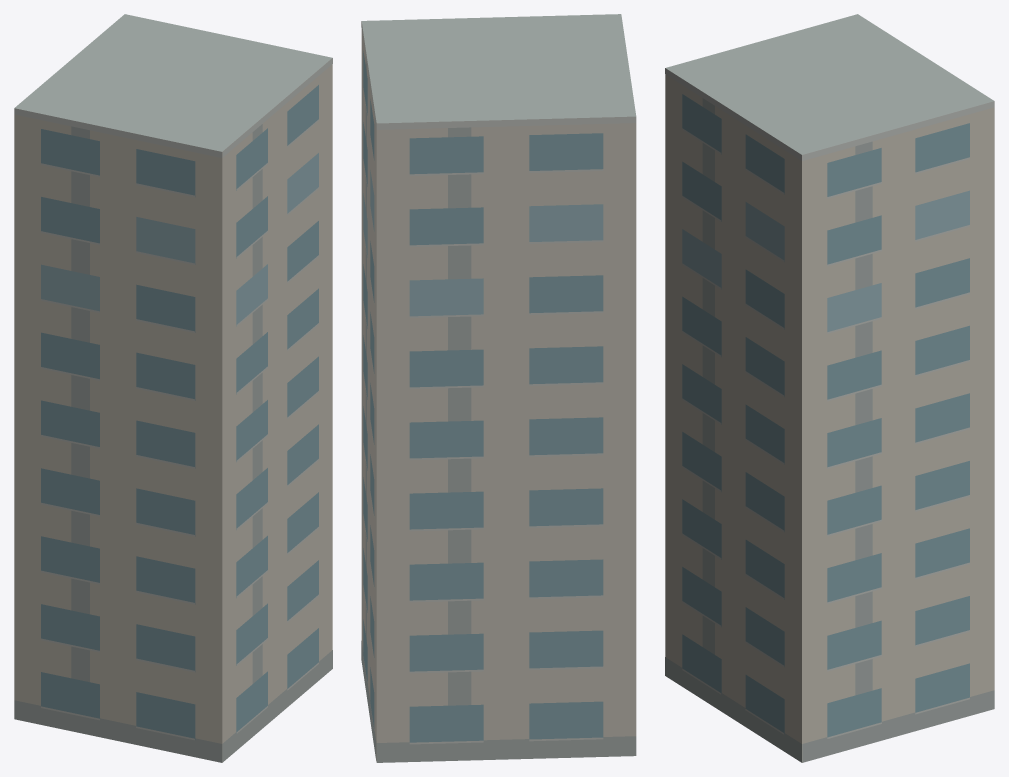
The model's file is residential-6cf351f7-9d84-4971-b9f0-f32f5a612195.glb.
3 renders of one model, left to right at view 1: azimuth 30°, elevation 25°; view 2: azimuth 150°, elevation 25°; view 3: azimuth 270°, elevation 25°, orthographic. The views are drawn at different scales.
Parts seen in each view (by area): view 1: residential-6cf351f7-9d84-4971-b9f0-f32f5a612195.tmp; view 2: residential-6cf351f7-9d84-4971-b9f0-f32f5a612195.tmp; view 3: residential-6cf351f7-9d84-4971-b9f0-f32f5a612195.tmp.
Boxes of the visible parts, x1,y1,x2,y2 form: residential-6cf351f7-9d84-4971-b9f0-f32f5a612195.tmp: (14,14,332,762); residential-6cf351f7-9d84-4971-b9f0-f32f5a612195.tmp: (361,14,636,762); residential-6cf351f7-9d84-4971-b9f0-f32f5a612195.tmp: (665,14,994,762).
Size of the model in its own units: 11.95 by 24 by 11.8.
